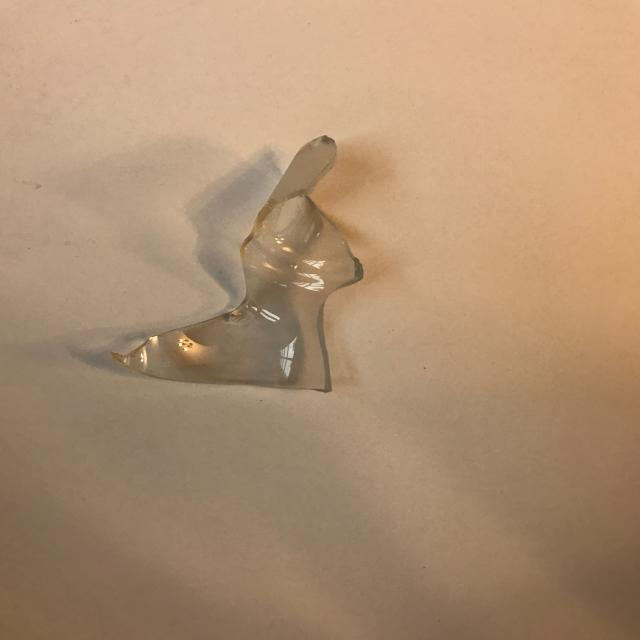glass: (109, 134, 365, 393)
